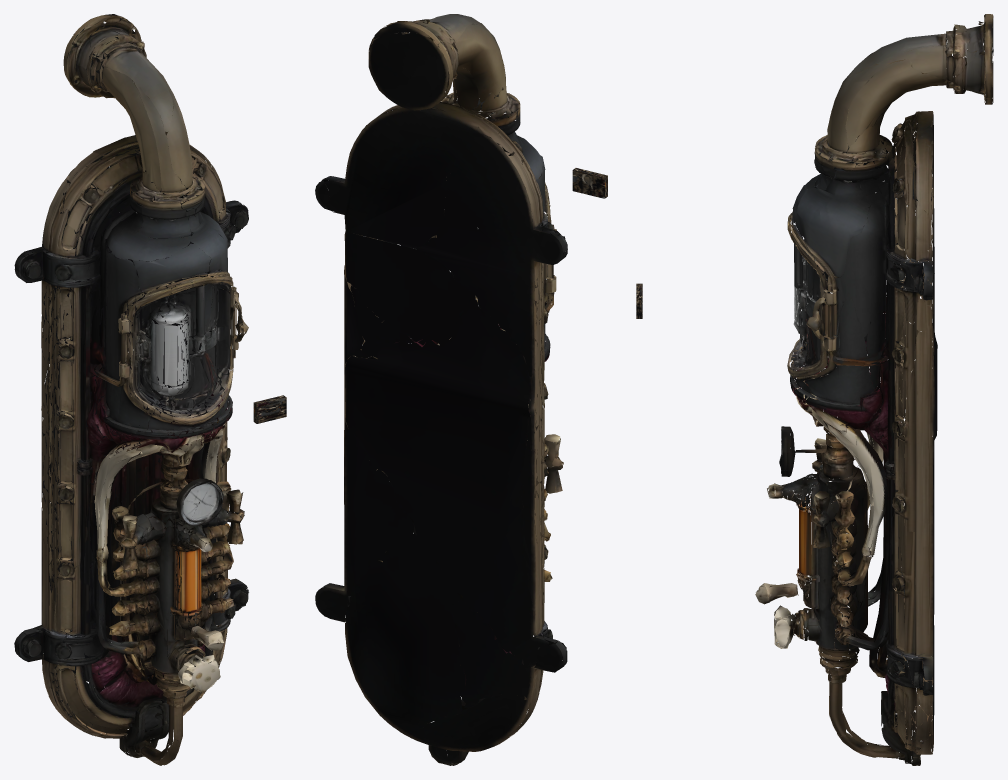
The model's file is chen_pneumatic_capsule_chute.glb.
3 views of the same model, side by side, from view 1: azimuth 30°, elevation 25°; view 2: azimuth 150°, elevation 25°; view 3: azimuth 270°, elevation 25° (orthographic). The views are drawn at different scales.
Parts seen in each view (by area): view 1: node_0, HB_LID_00; view 2: node_0, HB_LID_00; view 3: node_0.
Boxes of the visible parts, x1=… form: node_0: x1=14, y1=14, x2=248, y2=765; HB_LID_00: x1=253, y1=395, x2=286, y2=423; node_0: x1=315, y1=14, x2=567, y2=765; HB_LID_00: x1=572, y1=168, x2=607, y2=198; node_0: x1=755, y1=14, x2=993, y2=765.
Bounding box in the file's own units: 0.3912 × 1.15 × 0.5016.
Materials: 1 (1 with a texture image).
